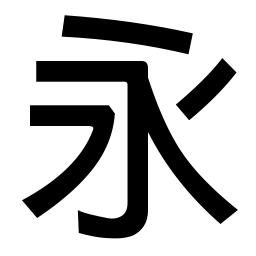D: (60, 12, 194, 55)
HSZ: (113, 58, 151, 96)
Hs: (33, 59, 82, 84)
Ne: (199, 191, 241, 227)
PNc: (150, 99, 196, 131)
PZe: (20, 187, 49, 221)
Ps: (211, 56, 238, 87)
SG: (75, 203, 151, 241)
Sm: (124, 151, 152, 182)
TPZ: (86, 102, 117, 150)
Ts: (28, 101, 58, 130)
